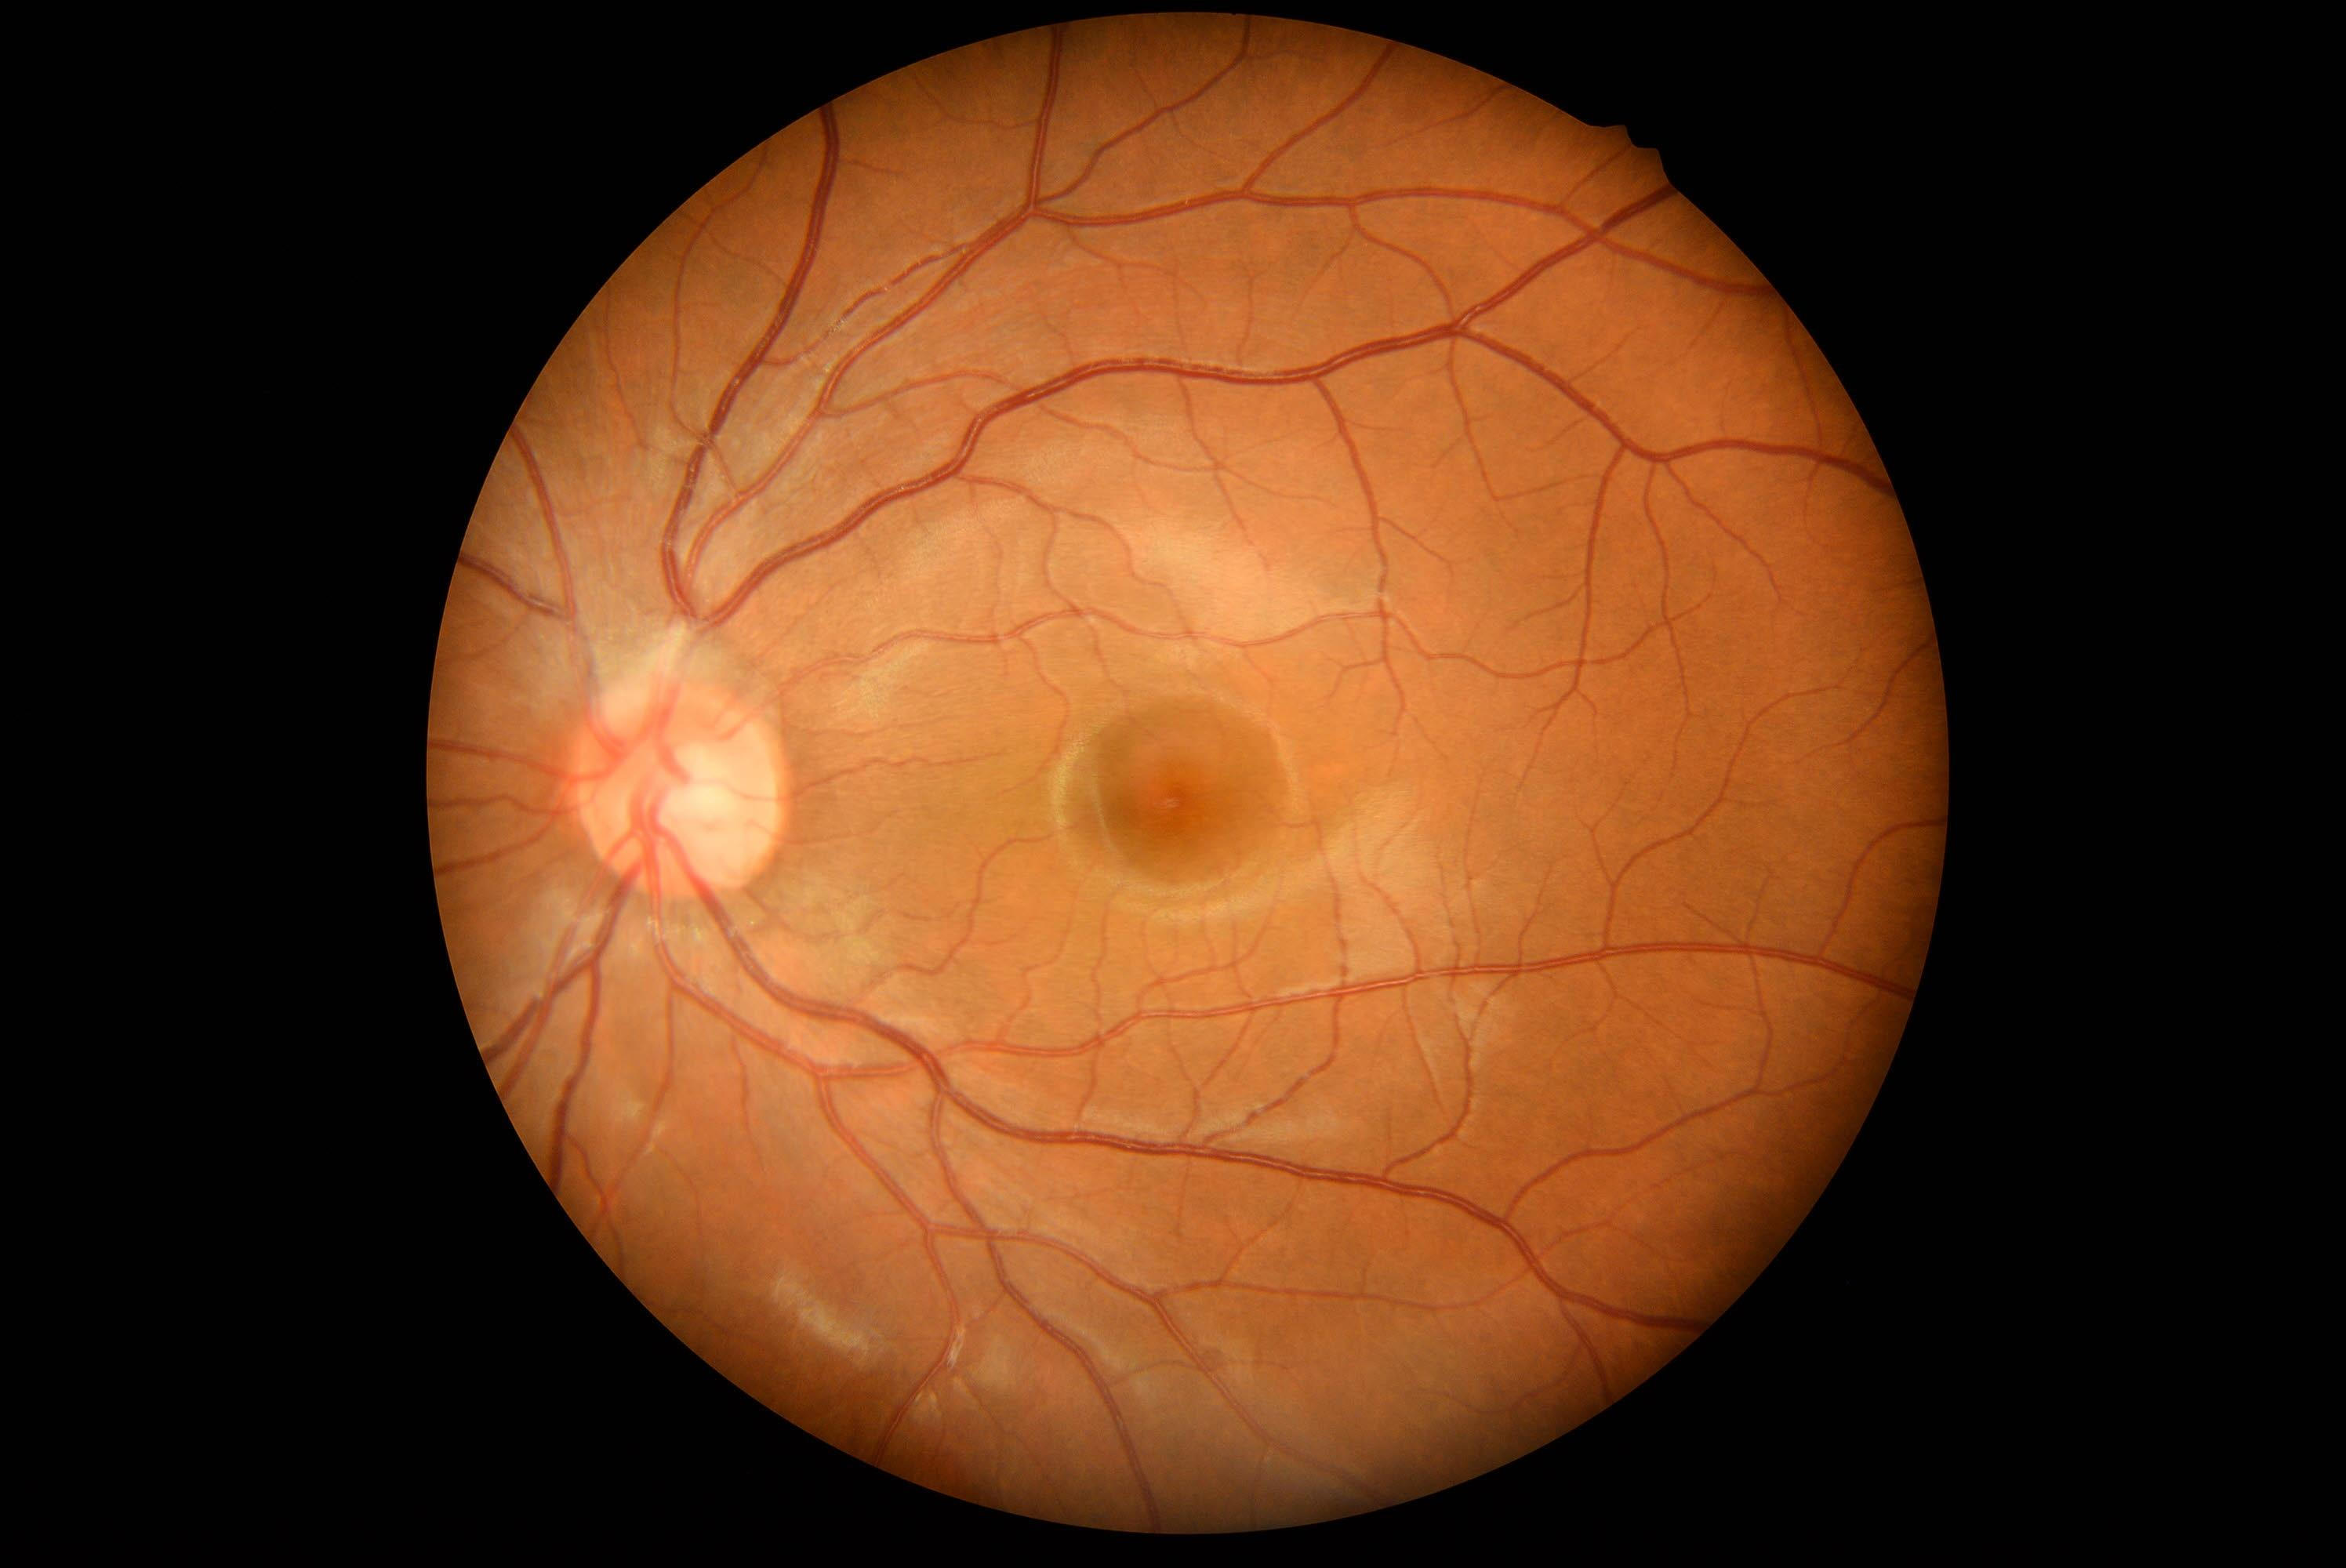Fovea: (1104, 732, 1240, 866)
